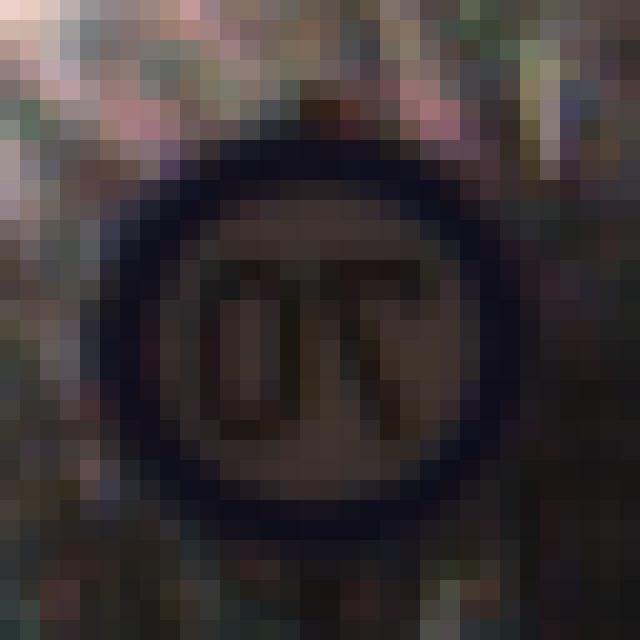SPEED LIMIT 70: (74, 145, 534, 558)
